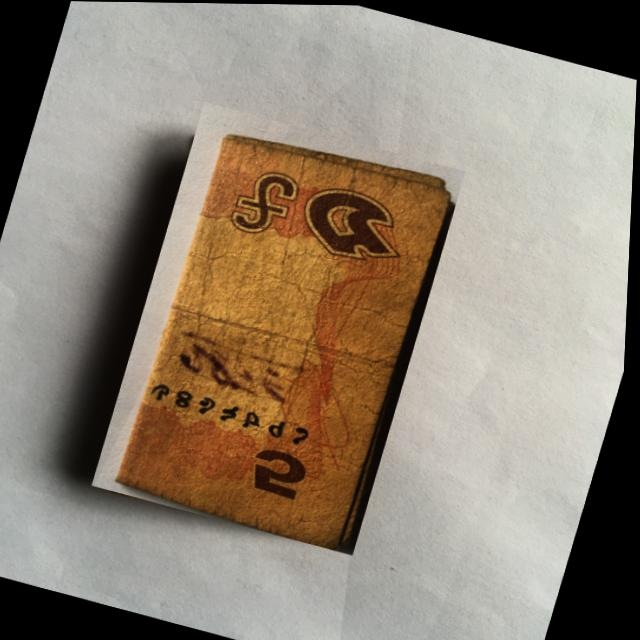Taka: (92, 100, 469, 555)
